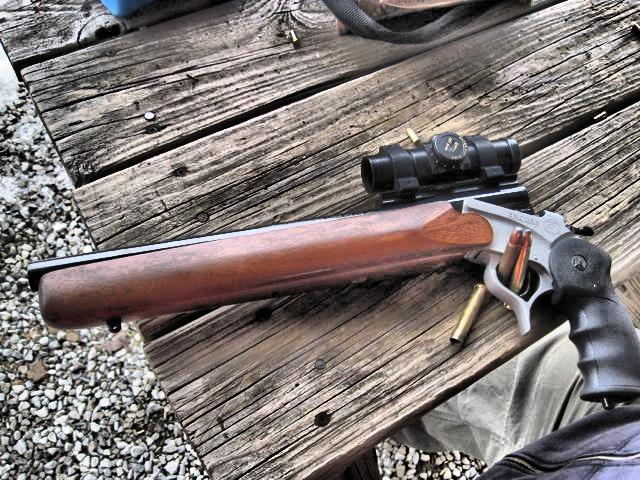pistol: (27, 144, 638, 408)
